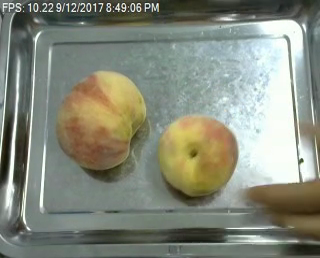Peach: (55, 69, 148, 171), (158, 114, 239, 196)
